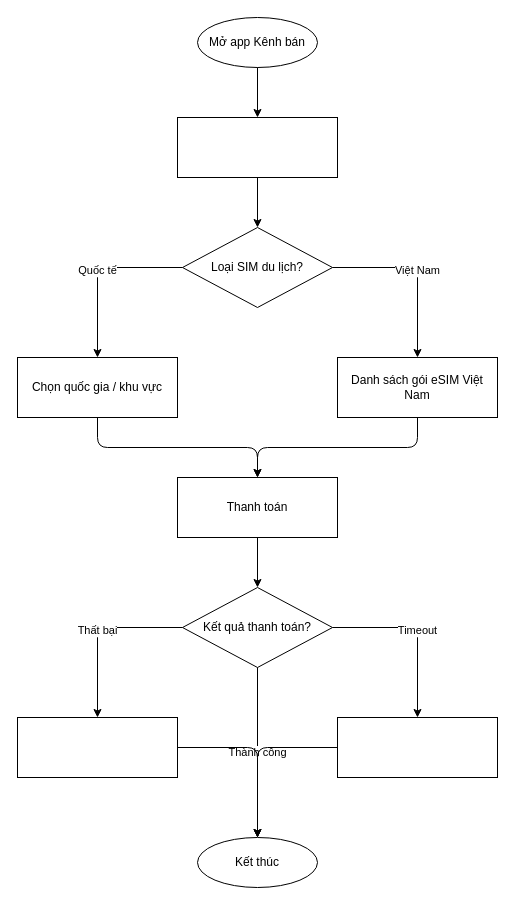
Some shapes in this 515 by 905 pixel diagram are drawn without their labels. Each missing label, with the box of its shape:
Bank báo lỗi: (16, 716, 178, 778)
Billing revert tiền: (336, 716, 498, 778)
Chọn Mua SIM > SIM Du lịch: (176, 116, 338, 178)
